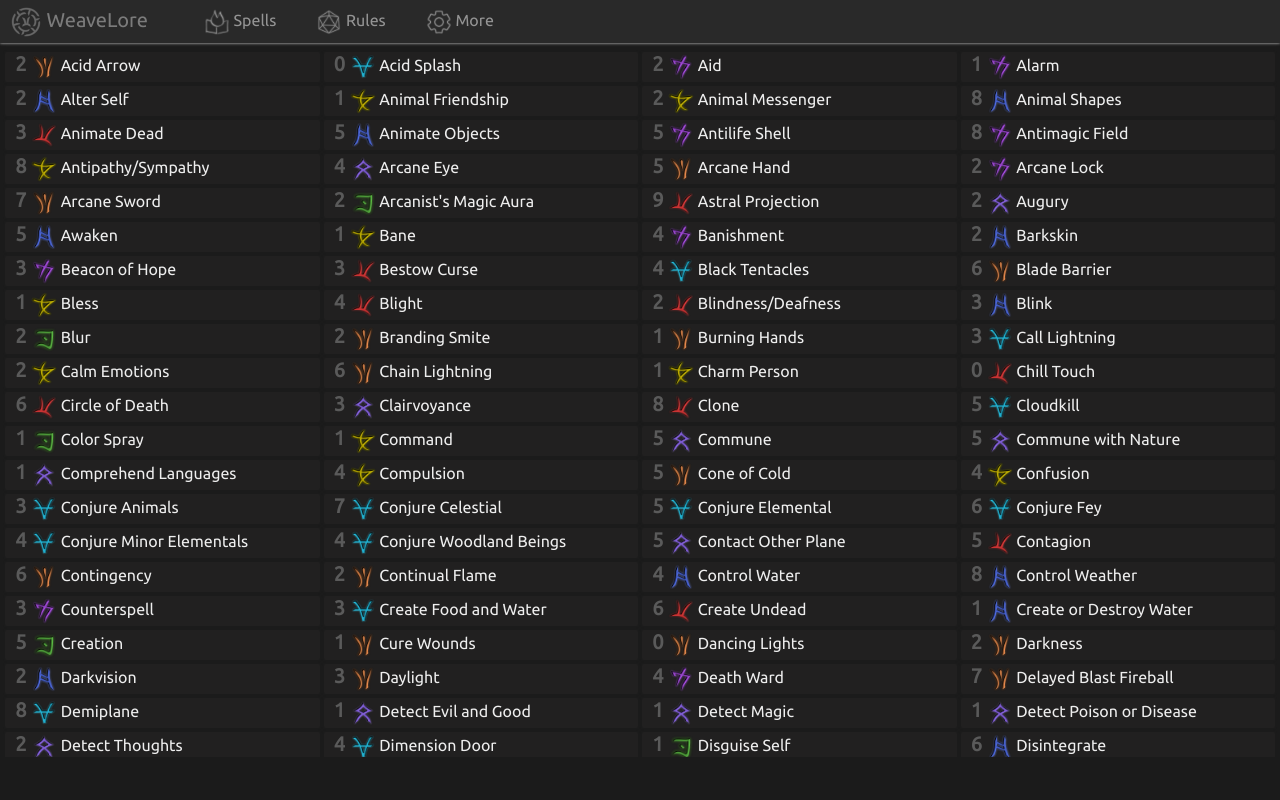
Test case: Spells page › opens individual spells correctly
This screenshot has width=1280, height=800.
What coordinates should you click on to do the following:
click the text "Bless"
I would click on:
 (163, 305)
Its box is x1=3 y1=288 x2=322 y2=322.
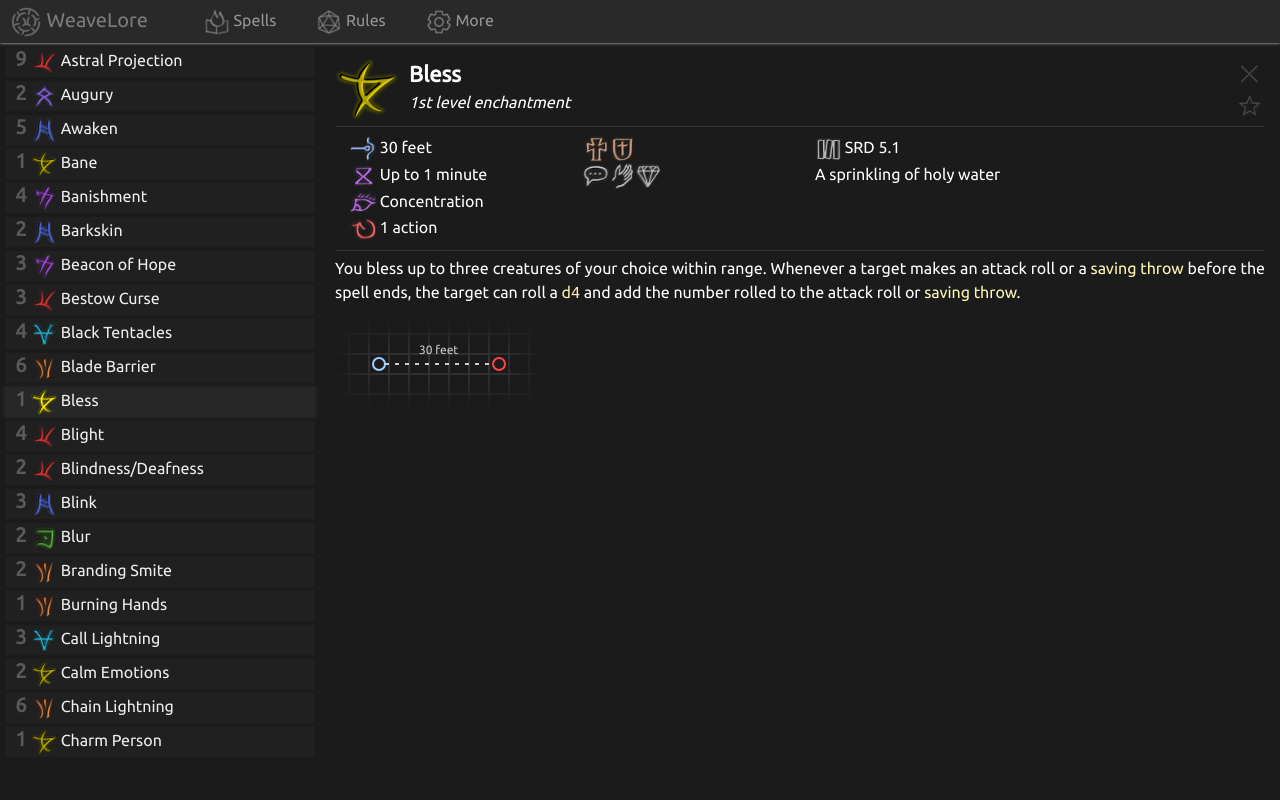
Expected: the link "30 feet" is shown, x1=350 y1=138 x2=432 y2=156
Expected: the text "Up to 1 minute" is shown, x1=376 y1=165 x2=487 y2=183
Expected: the text "Concentration" is shown, x1=376 y1=192 x2=484 y2=210
